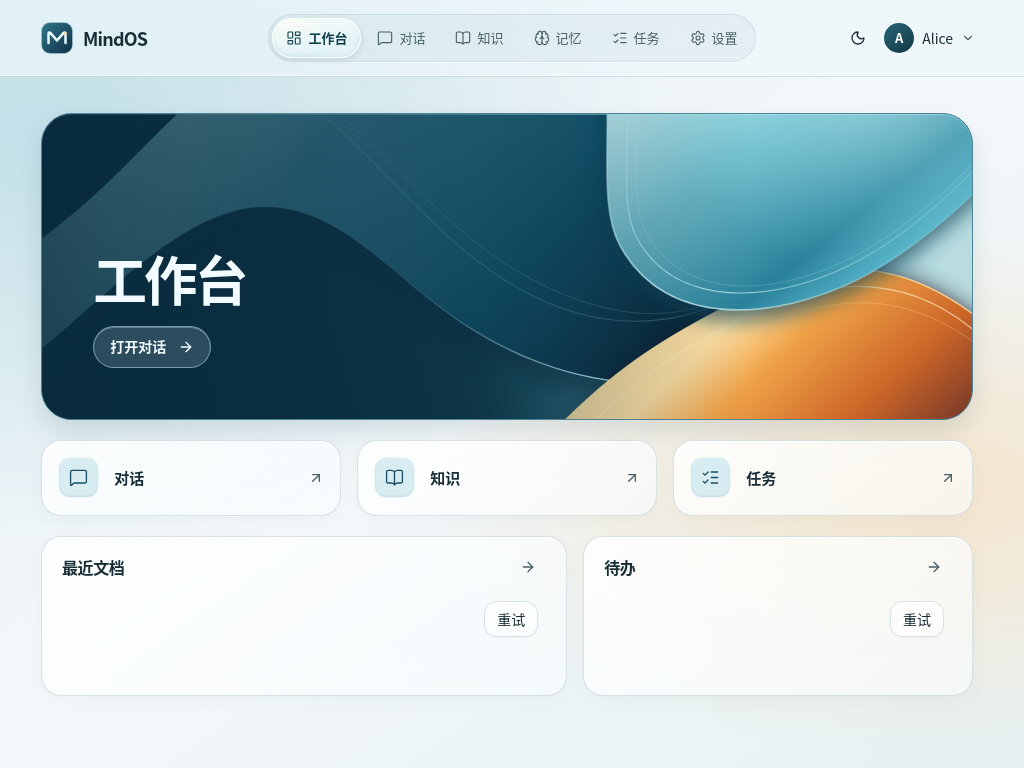
应用布局与路由 › 点击导航切换页面并标记当前项
// 只检验路由和导航高亮，不依赖记忆接口是否返回数据。
Click the link "记忆" at (558, 37), box [534, 28, 582, 46]
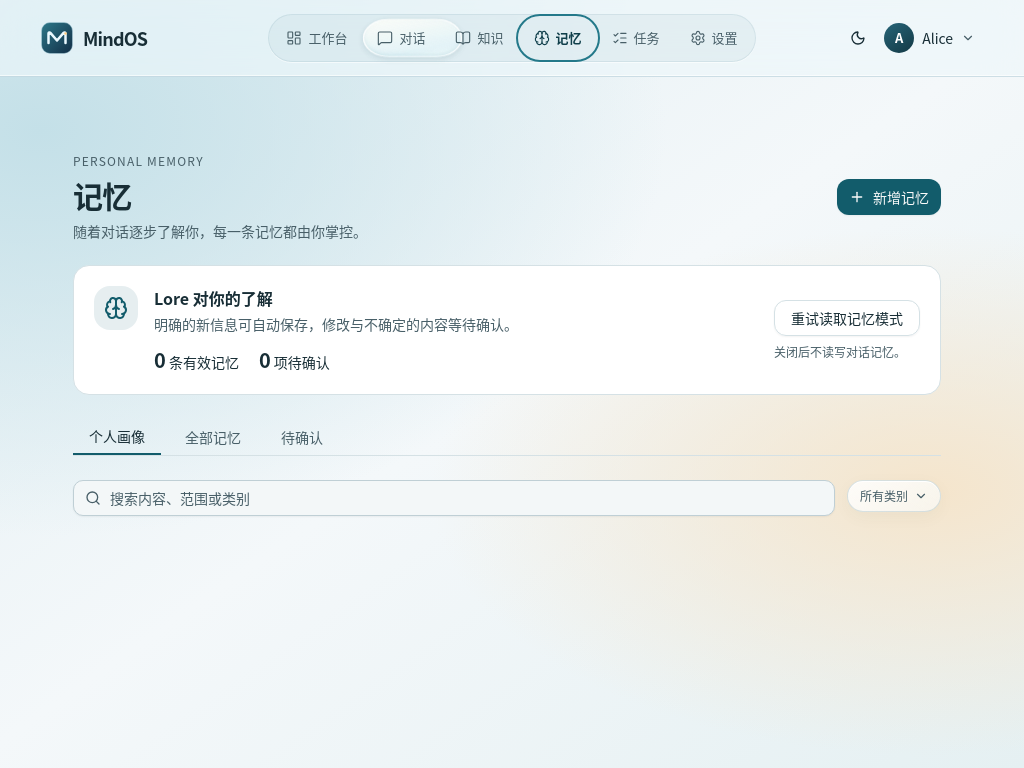
Expected: the heading "记忆" is shown, [73, 173, 132, 217]
